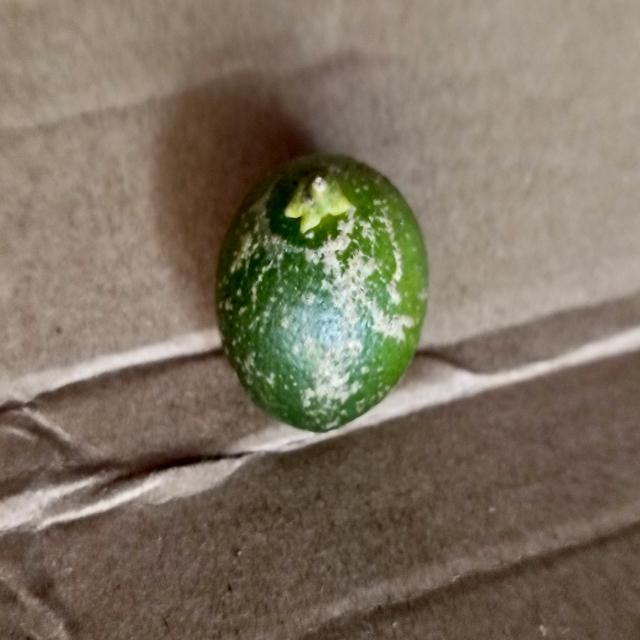scab: (214, 149, 427, 428)
